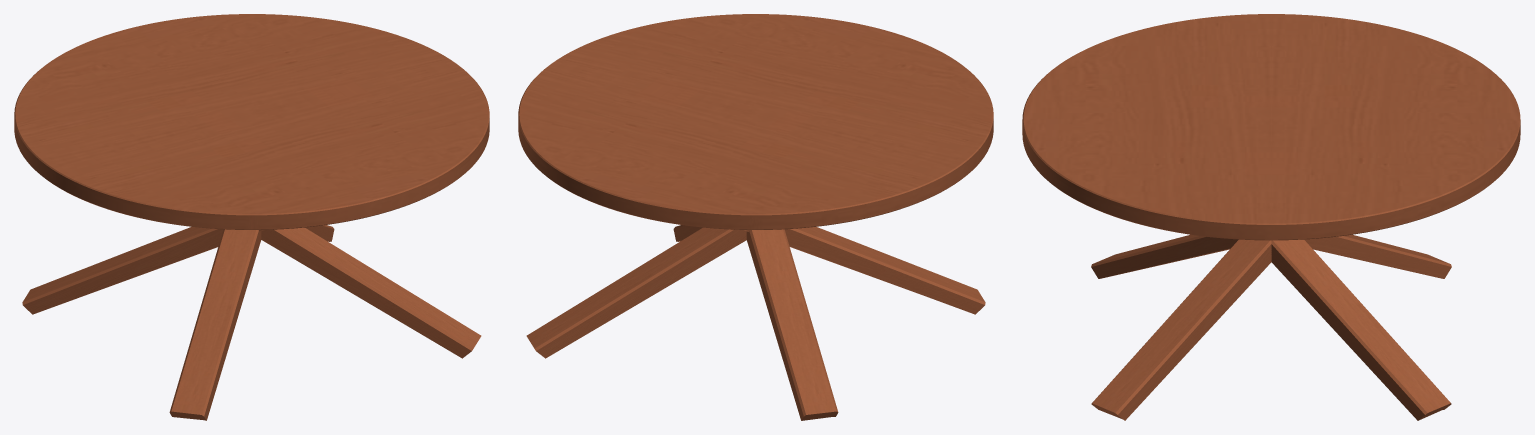
Rendered from round-cherry.glb.
The picture shows the model from 3 angles, left to right: view 1: azimuth 30°, elevation 25°; view 2: azimuth 150°, elevation 25°; view 3: azimuth 270°, elevation 25°; orthographic projection. The views are drawn at different scales.
Parts seen in each view (by area): view 1: Wood_Round, Base_Round; view 2: Wood_Round, Base_Round; view 3: Wood_Round, Base_Round.
Boxes of the visible parts, left/top/right/bottom form: Wood_Round: left=14, top=14, right=489, bottom=229; Base_Round: left=22, top=225, right=481, bottom=420; Wood_Round: left=518, top=14, right=993, bottom=229; Base_Round: left=526, top=225, right=985, bottom=420; Wood_Round: left=1022, top=14, right=1520, bottom=240; Base_Round: left=1091, top=234, right=1451, bottom=420.
Bounding box in the file's own units: 1.52 × 0.762 × 1.52.
1 material, 1 textured.
